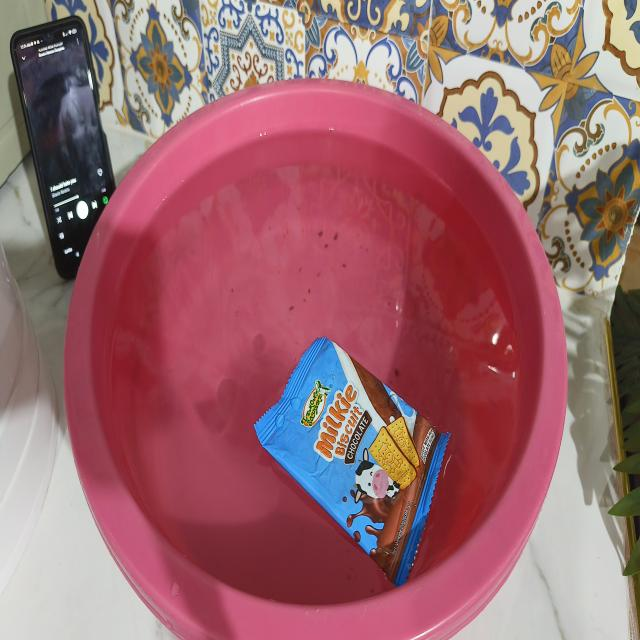Plastic Wrapper: (254, 338, 449, 586)
